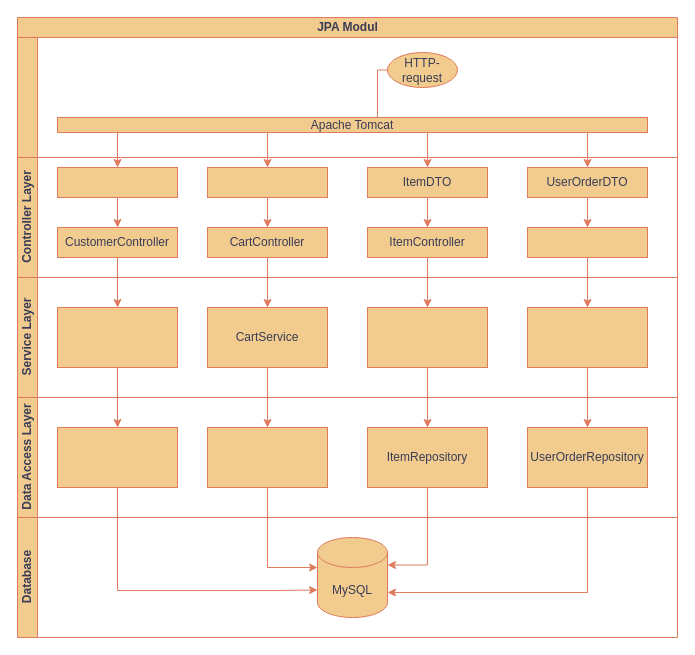
Image size: 695x655. Some labels were removed from this diagram. Here are the shapes that lost their labels. From the top down, the centre of each, then its label:
At pixel 117 182: "CustomerDTO".
At pixel 267 182: "CartDTO".
At pixel 587 242: "UserOrderController".
At pixel 117 337: "CustomerService".
At pixel 427 337: "ItemService".
At pixel 587 337: "UserOrderService".
At pixel 117 457: "CustomerRepository".
At pixel 267 457: "CartRepository".
